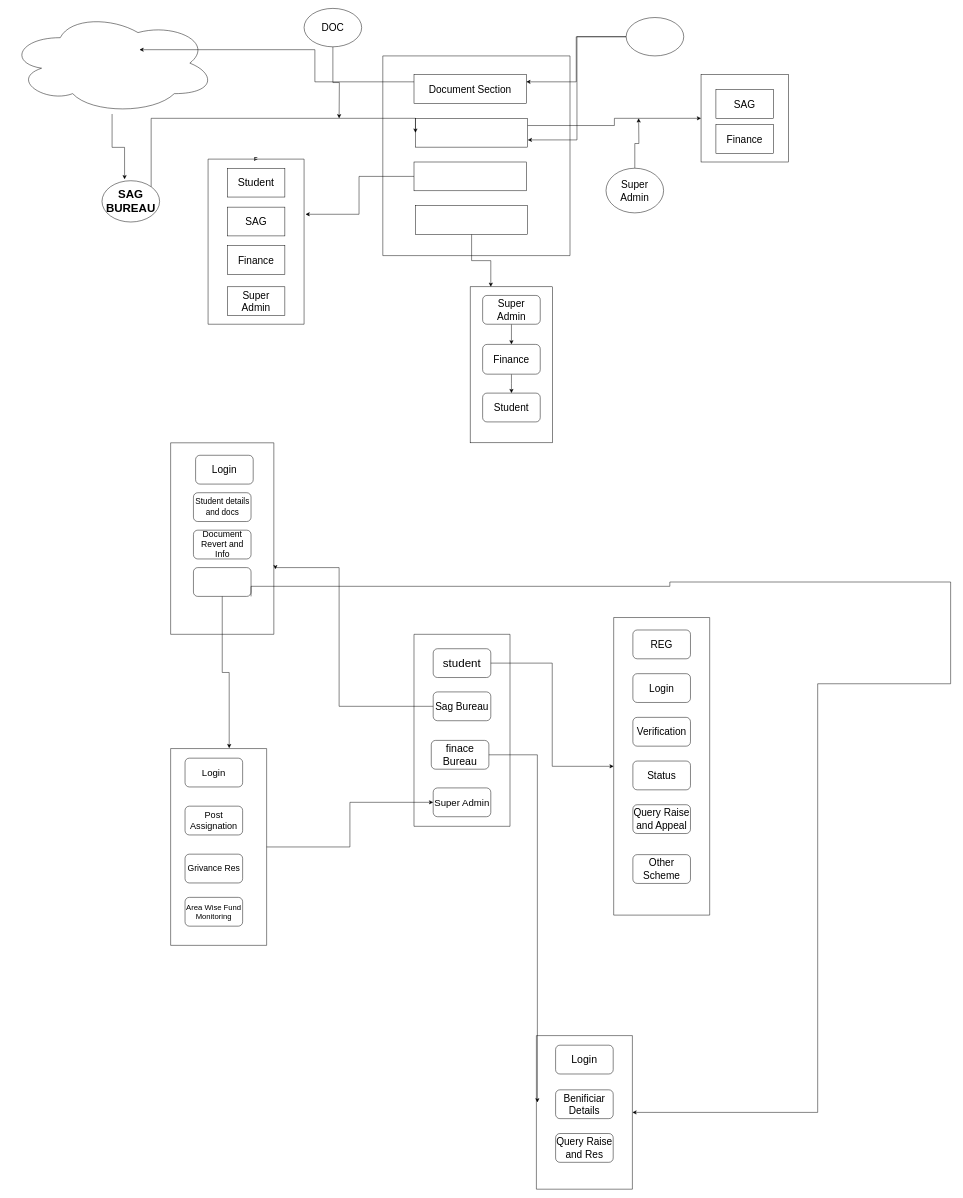
This 963x1198 diagram has some shape labels left out. The shapes that lost their labels are listed below. From the top down, each one's centre as x and y in pixels, then its label:
At pixel 655 36: "students".
At pixel 112 63: "Senstive data hide using block chain".
At pixel 471 132: "Verification Page".
At pixel 470 176: "Notification".
At pixel 471 219: "Payment Handler".
At pixel 222 581: "Other Dept Com".
